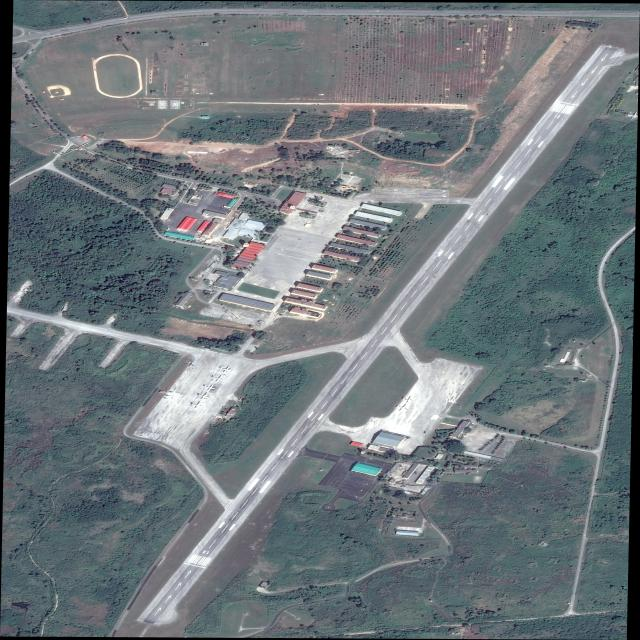plane: (394, 402, 412, 413), (194, 391, 212, 401), (210, 374, 227, 384), (189, 400, 206, 410), (218, 365, 235, 374), (401, 395, 417, 404), (202, 383, 218, 392), (161, 393, 171, 397), (165, 390, 174, 394), (161, 397, 170, 400)
